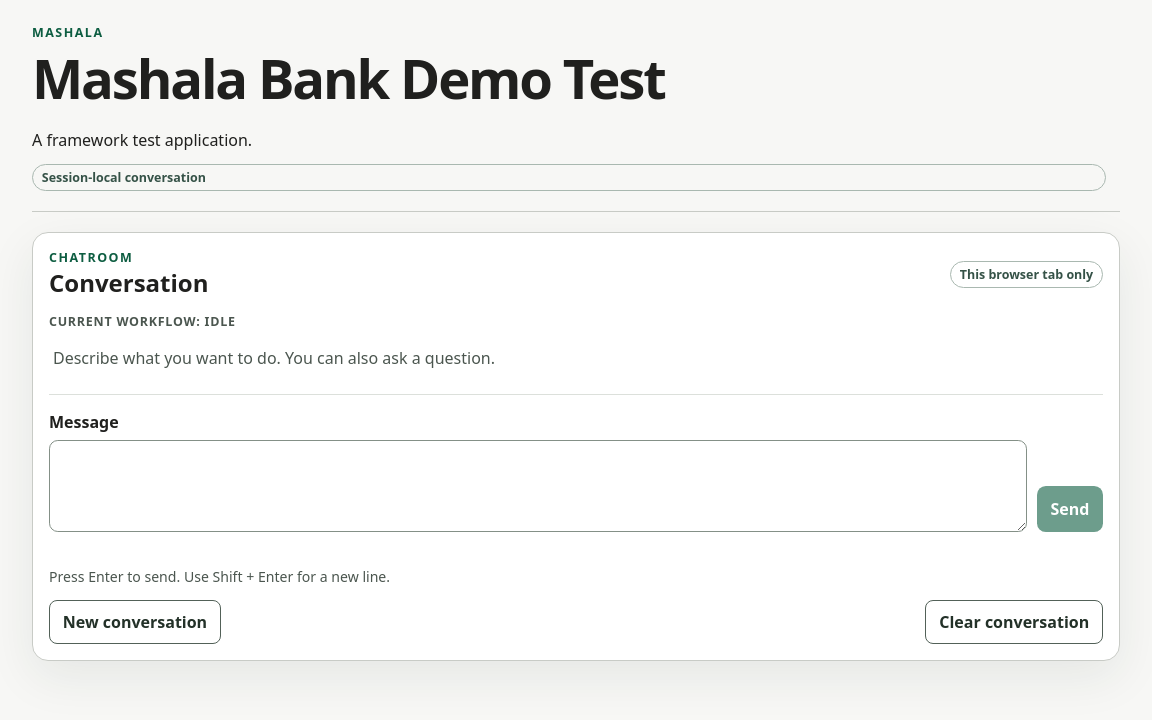
MashalaChat message transport › types and sends one canonical user.message event
In the text box labelled "Message": (538, 486) [49,440,1026,532], type "  transfer 500 to X  "
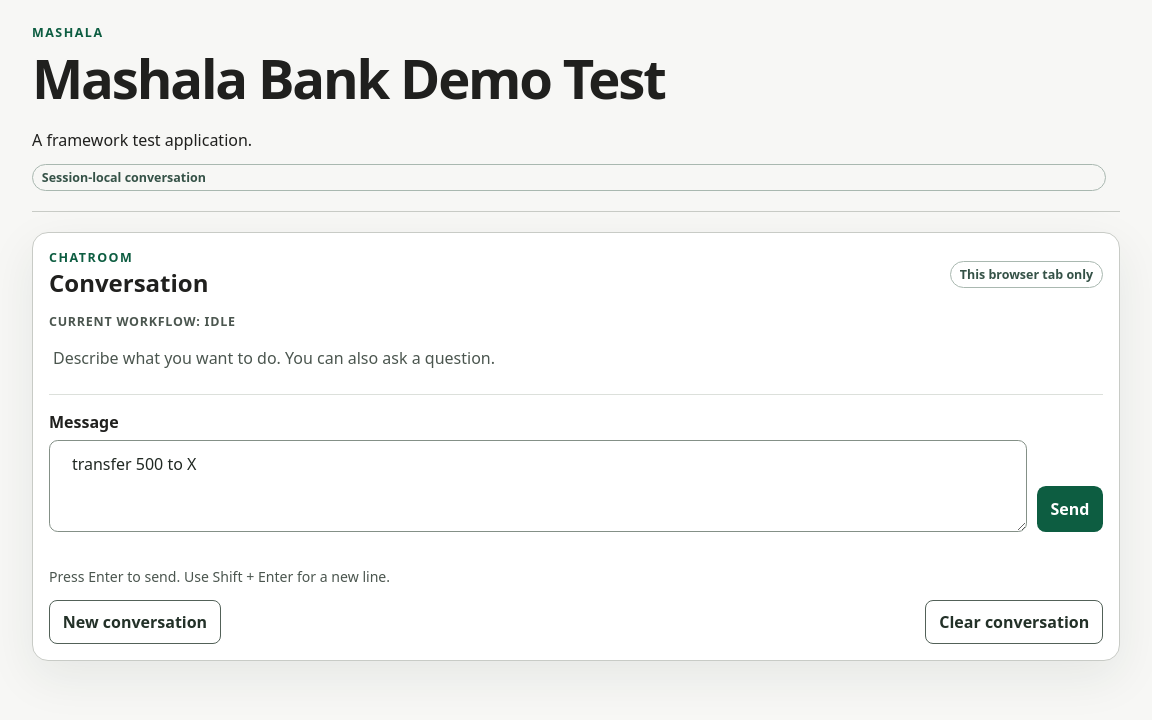
Click the button "Send": (1070, 509) [1037,486,1103,532]
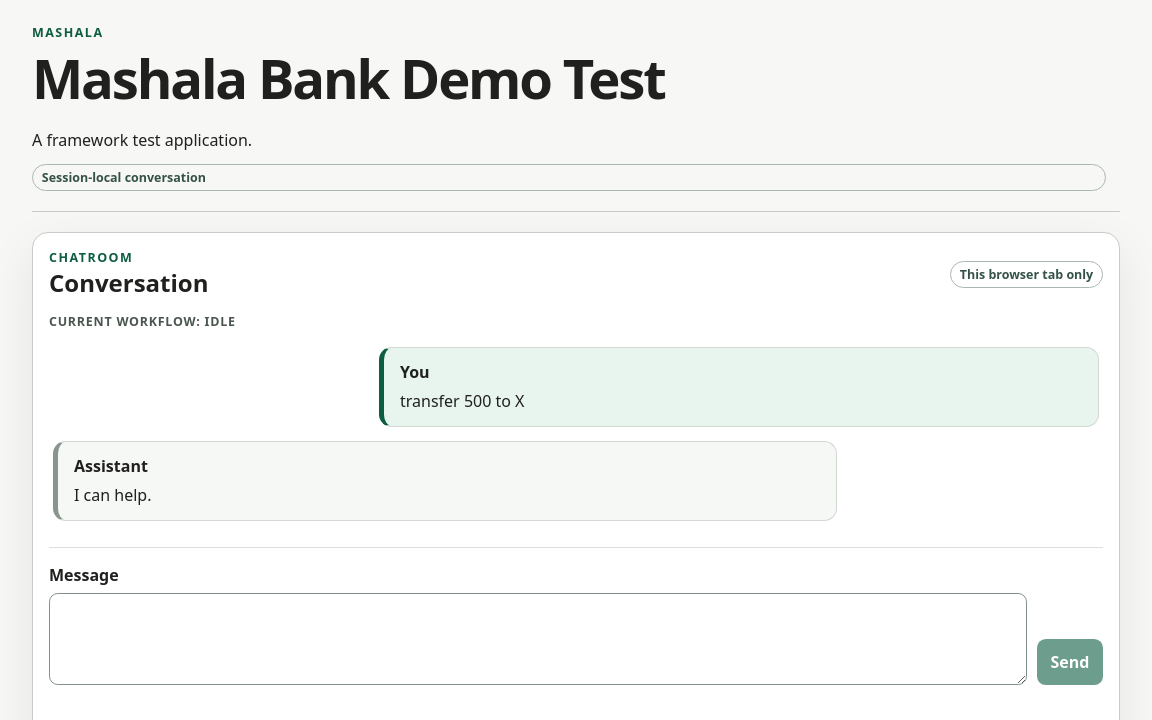
Result: the element named "Your message" shows "transfer 500 to X" at [400,390,524,412]
